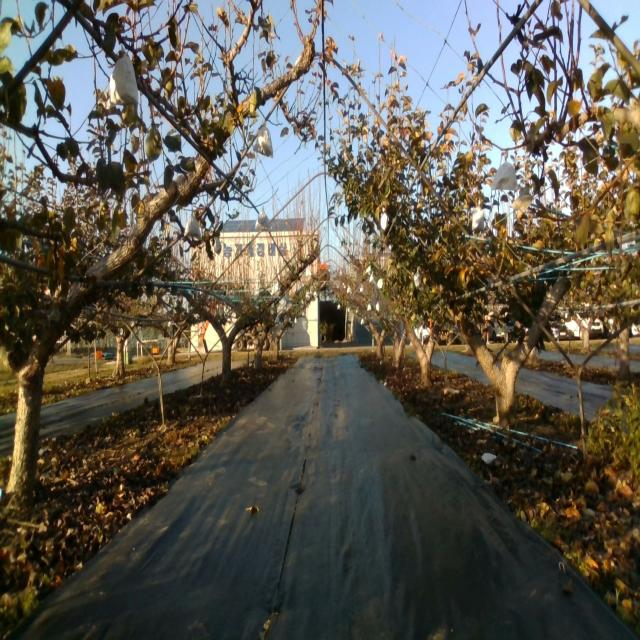pearbags: (110, 52, 142, 114), (491, 159, 518, 192), (253, 126, 274, 158), (184, 214, 202, 240), (254, 207, 270, 233), (472, 207, 484, 232)
